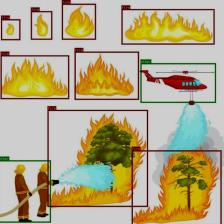fire: (47, 109, 148, 207), (132, 150, 222, 224), (121, 9, 215, 44), (74, 51, 139, 100), (1, 55, 68, 99), (62, 4, 96, 40), (31, 11, 52, 40), (1, 19, 20, 40)
